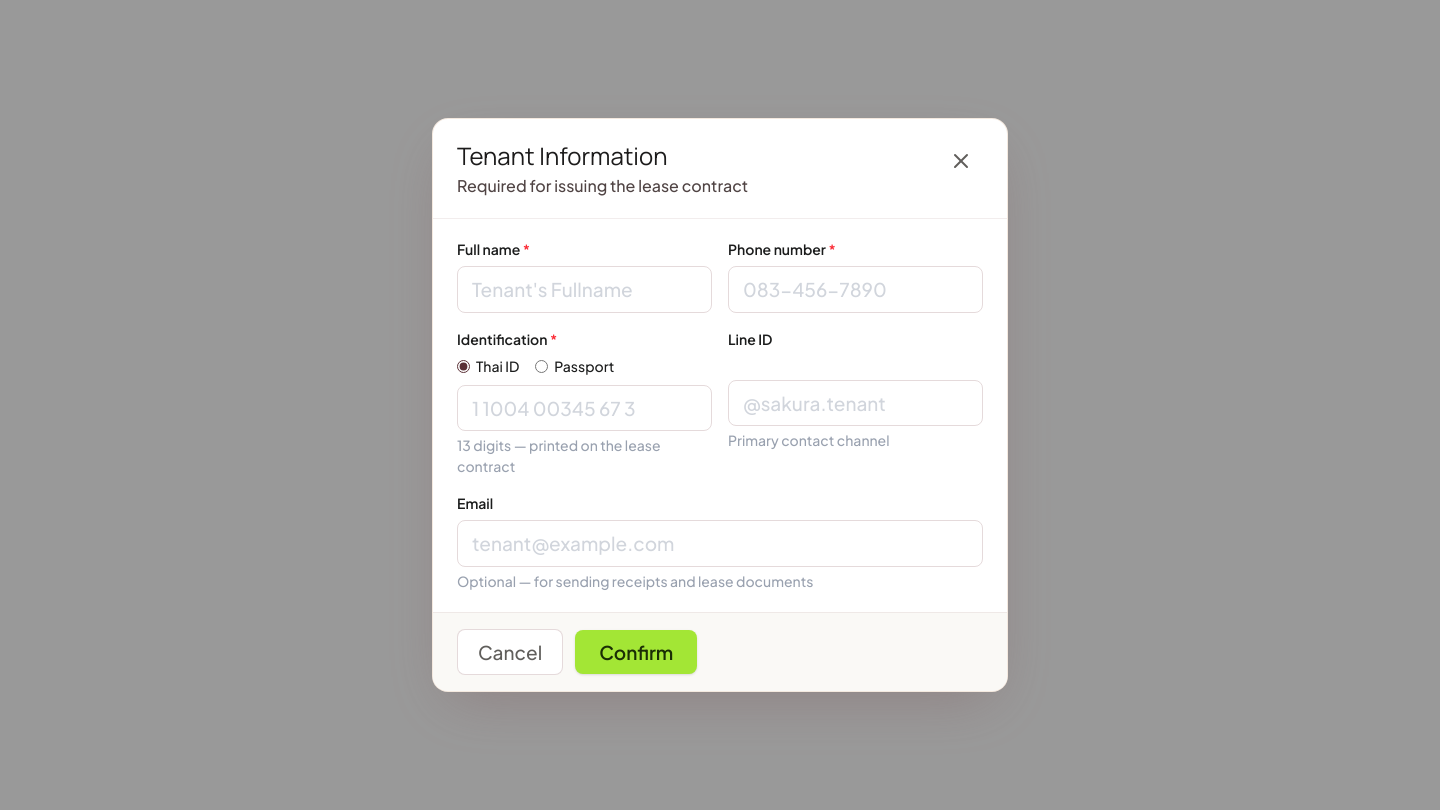
Scenario: AddTenantDialog (SSK-107) › shows an API error and keeps the dialog open when saving fails
Type "Nanami Aoki" into the field labelled "Full name *" at (584, 290), box [457,266,712,313]
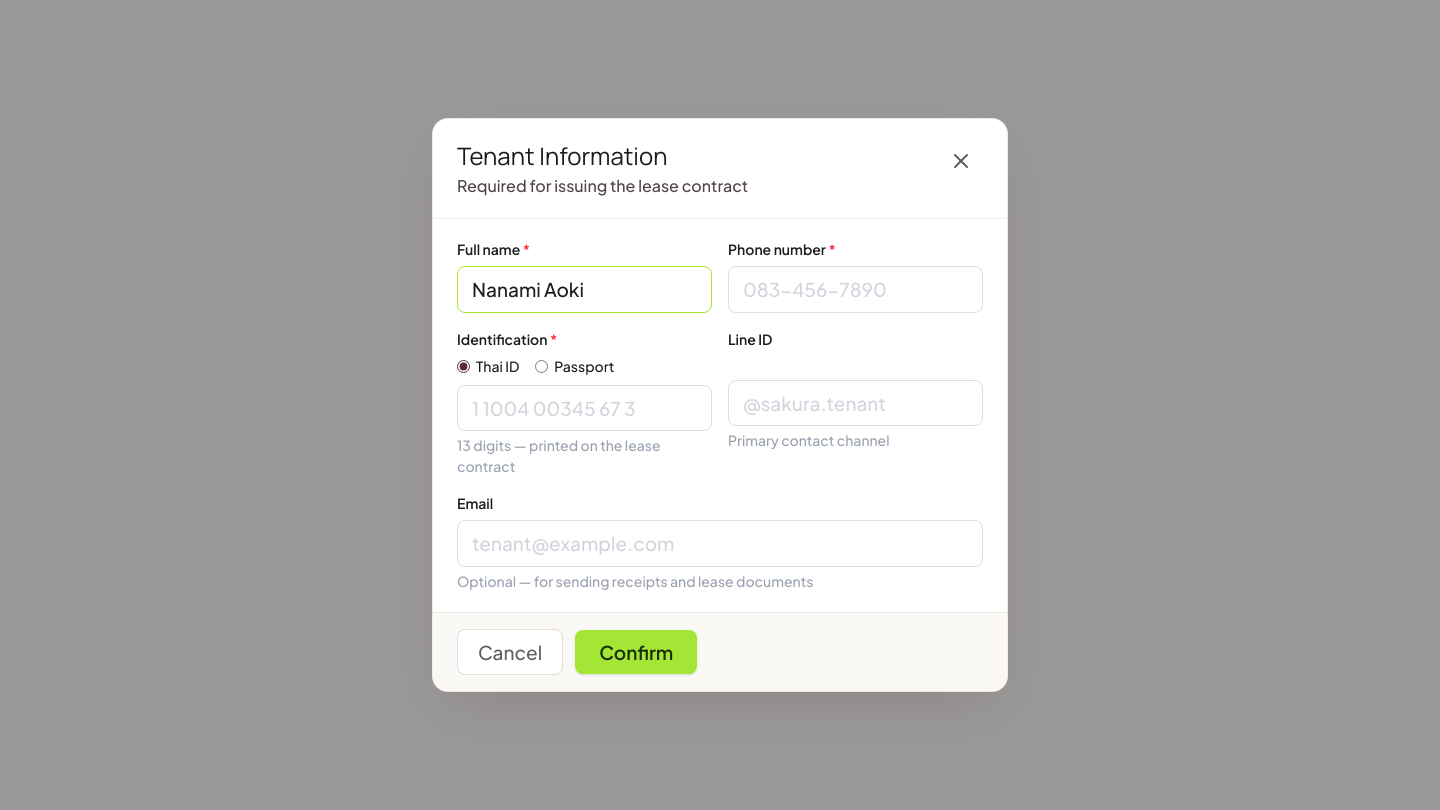
Type "089-777-8888" into the field labelled "Phone number *" at (856, 290), box [728,266,983,313]
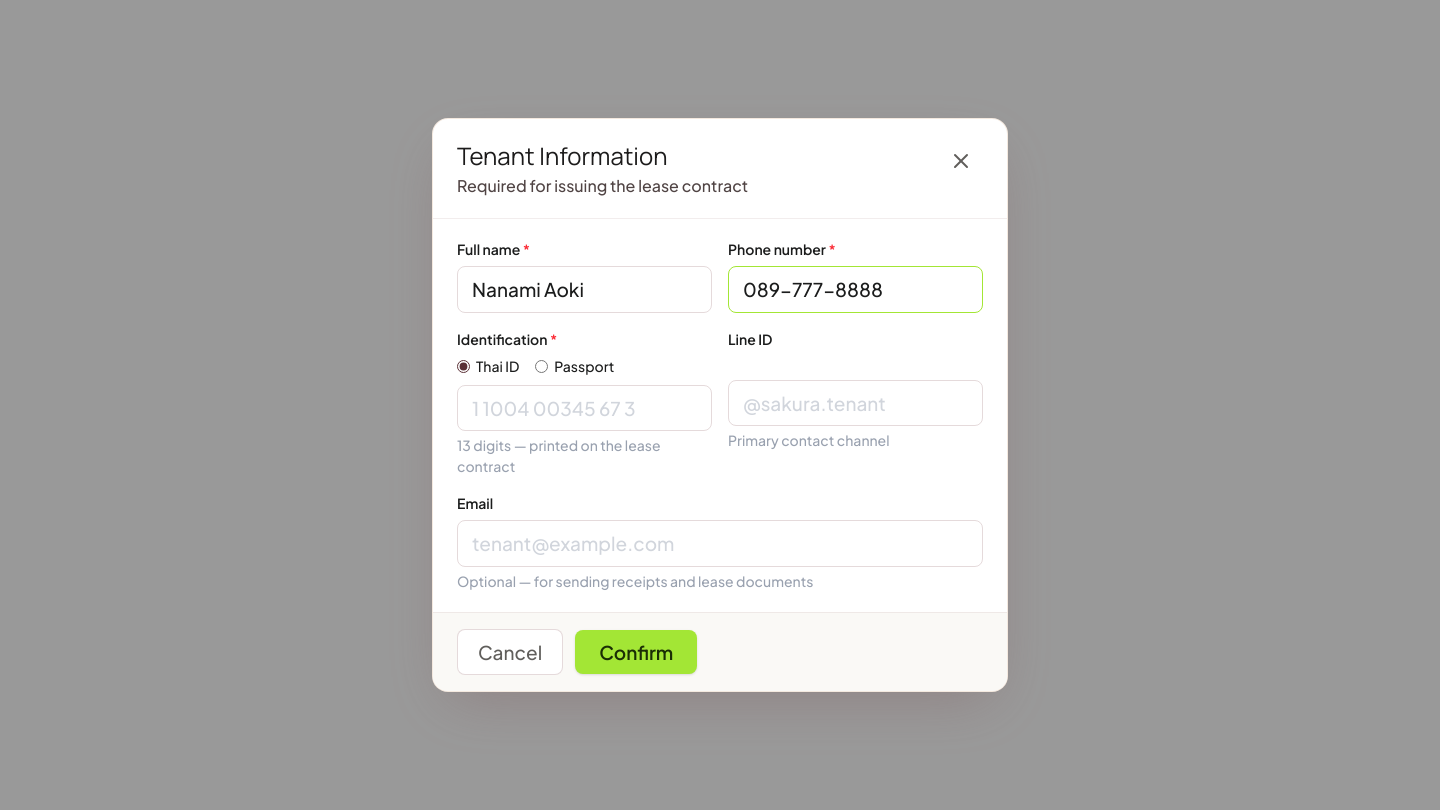
Type "1100400123450" into the field named "National ID" at (584, 408), box [457,385,712,431]
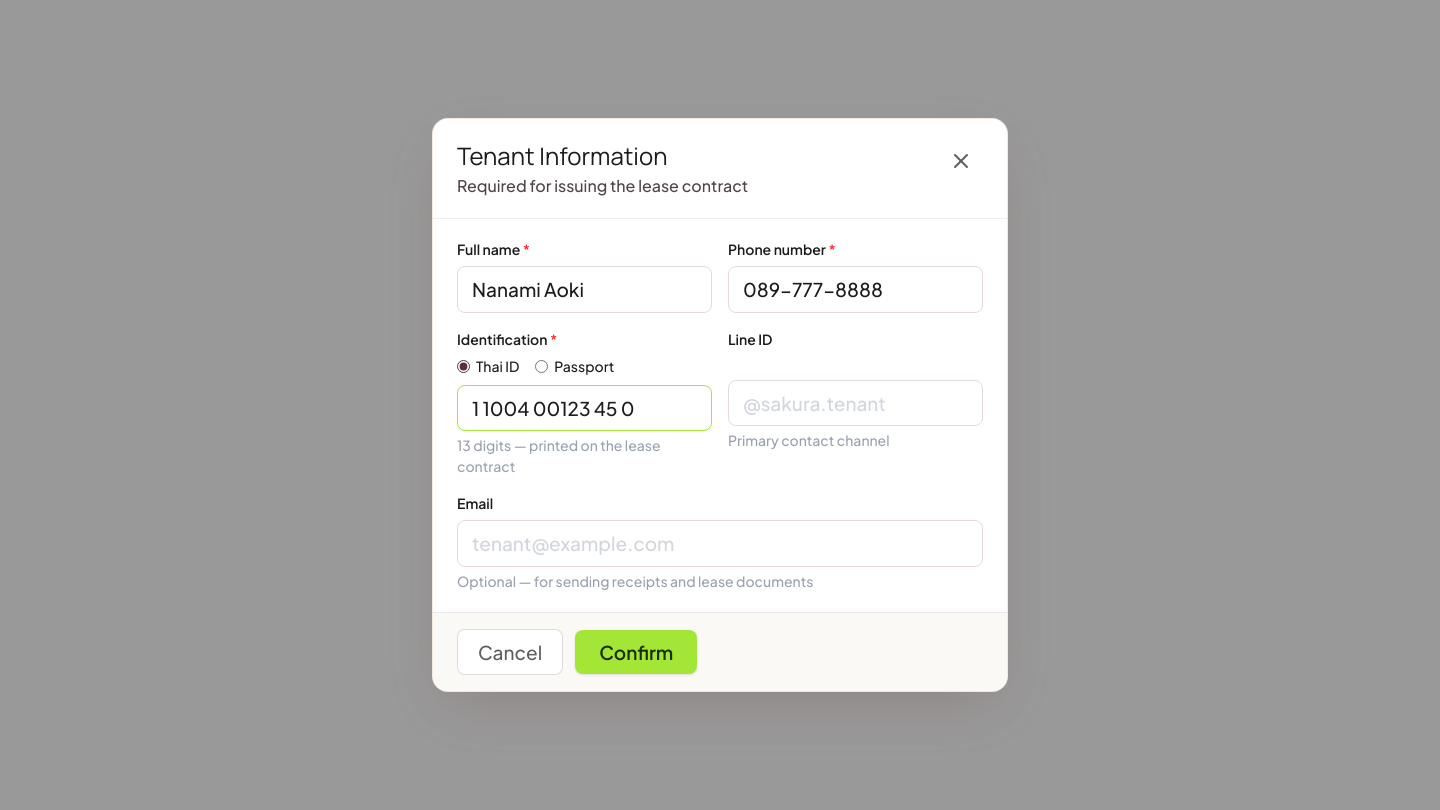
Click the button "Confirm" at (636, 652), box [575,630,697,674]
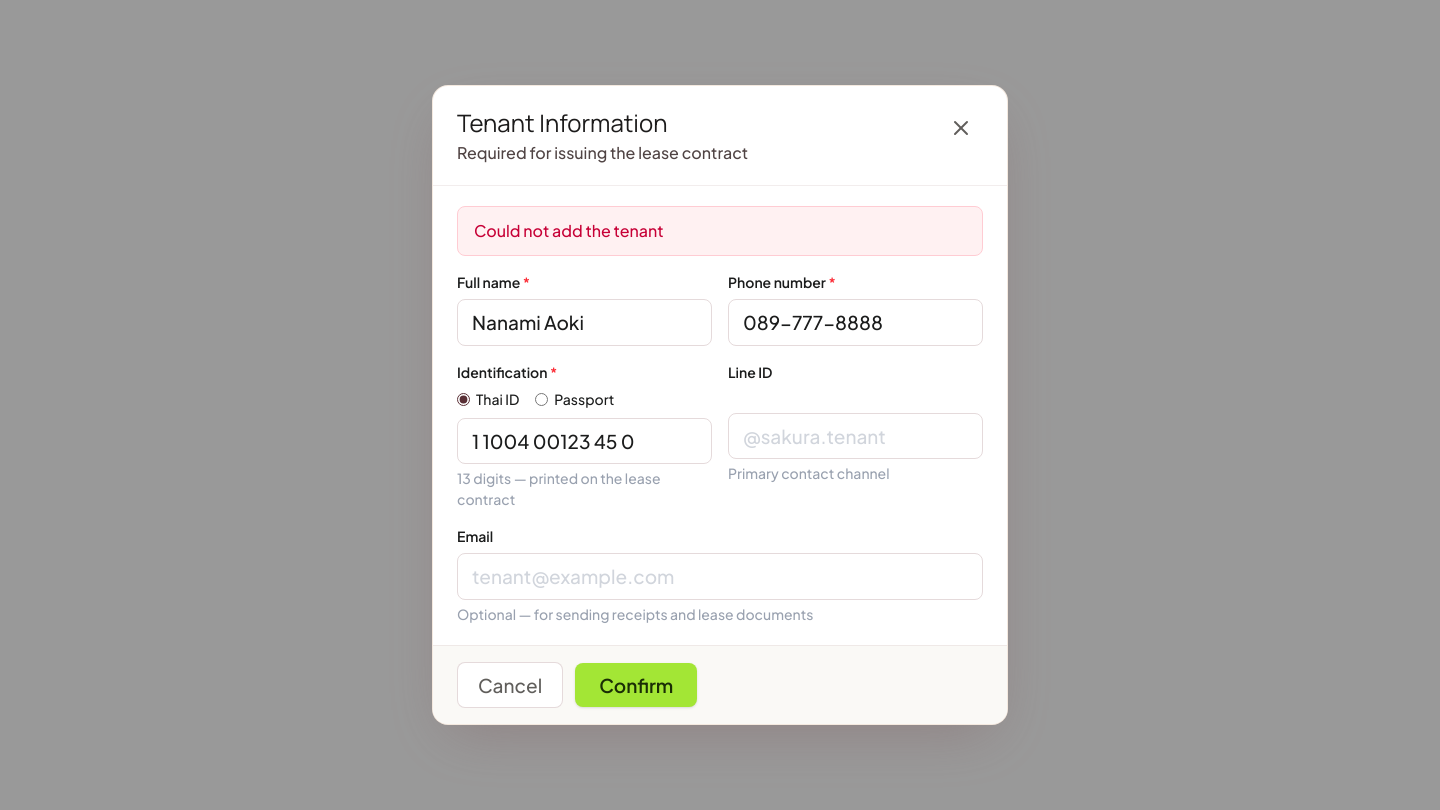
Check: the dialog "Tenant Information" is shown, box [432,85,1008,725]
Check: the message reads "Could not add the tenant", box [474,220,664,241]
